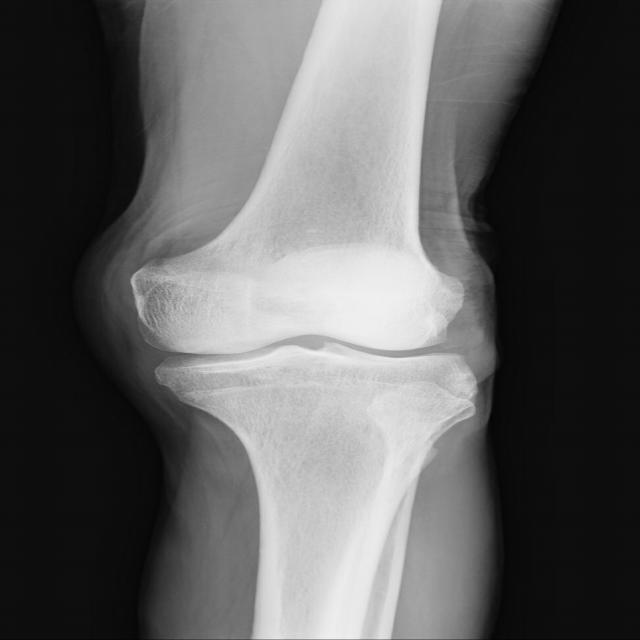normal: (123, 247, 480, 406)
